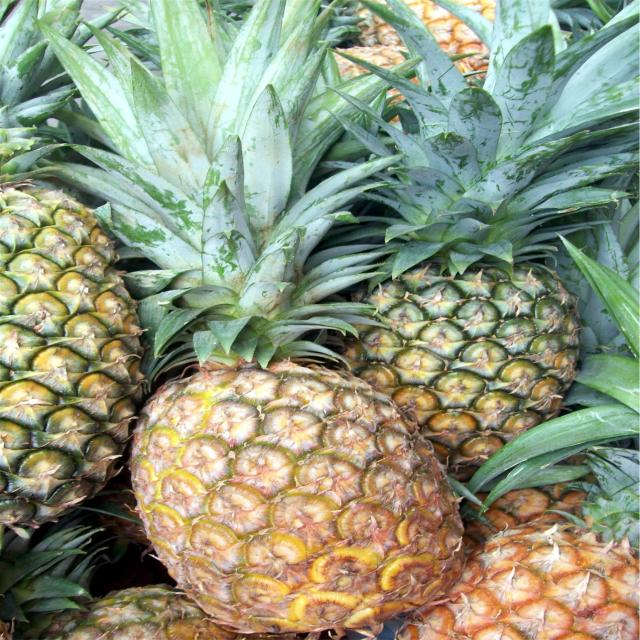pineapple: (116, 322, 467, 632), (360, 208, 601, 466)
